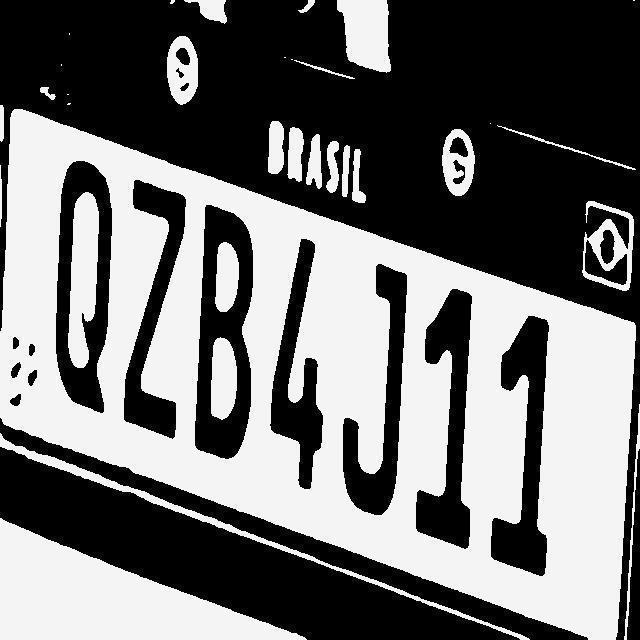1: (488, 304, 560, 580), (410, 284, 480, 554)
4: (260, 224, 328, 501)
b: (192, 198, 258, 474)
j: (332, 255, 417, 544)
q: (50, 152, 114, 424)
z: (120, 174, 191, 444)
